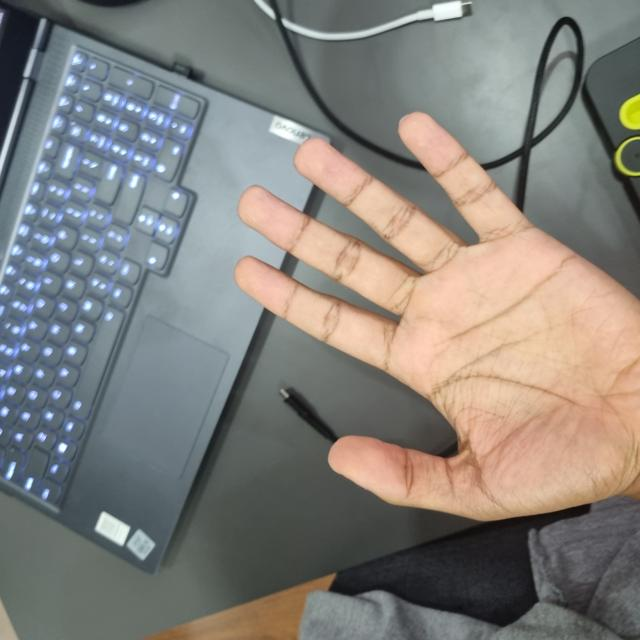Paper: (122, 237, 521, 639)
